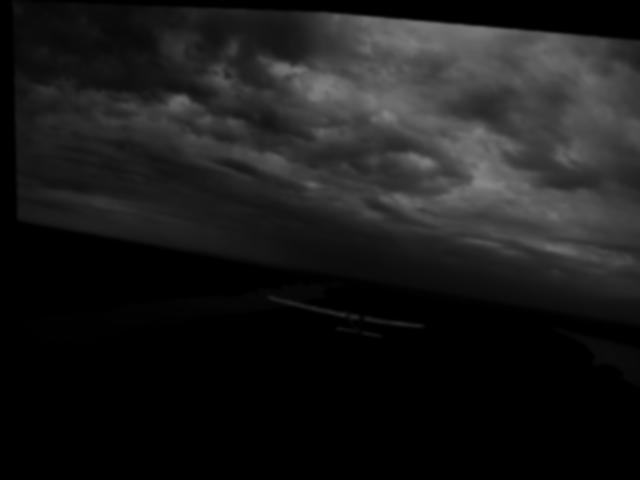hedef: (245, 288, 427, 353)
